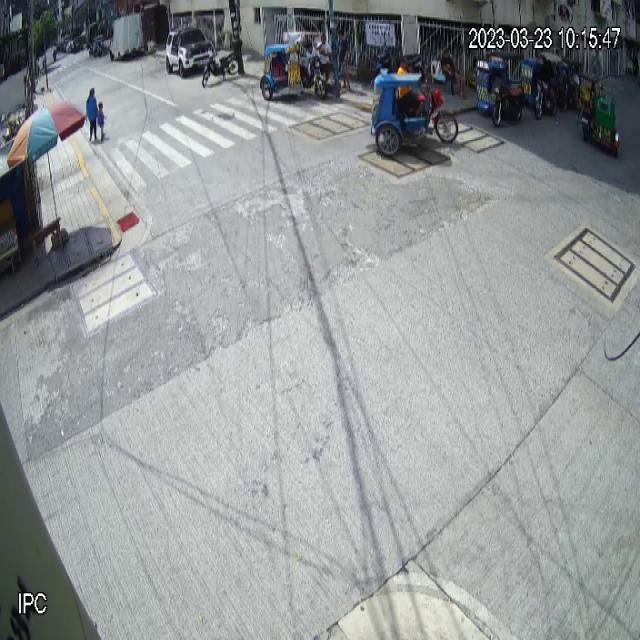Tricycle: (368, 50, 459, 160), (258, 31, 330, 103), (474, 49, 527, 128)
